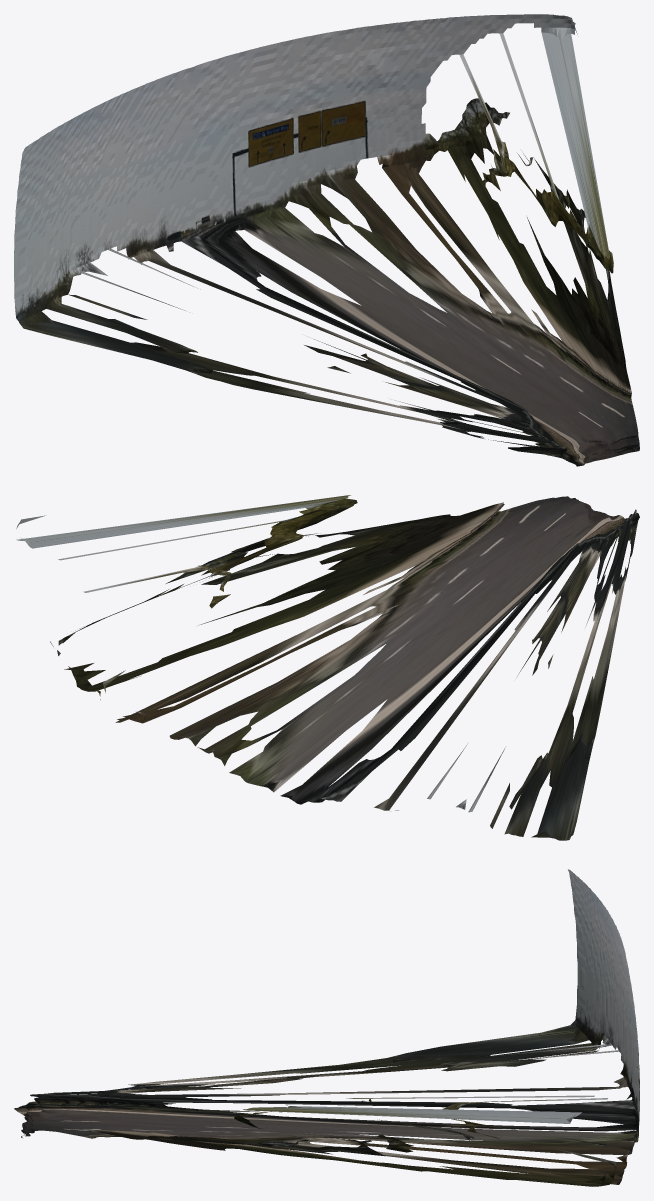
The picture shows the model from 3 angles, top to bottom: view 1: azimuth 30°, elevation 25°; view 2: azimuth 150°, elevation 25°; view 3: azimuth 270°, elevation 25°; orthographic projection. The views are drawn at different scales.
Visible parts, largest first — view 1: defaultobject; view 2: defaultobject; view 3: defaultobject.
Part boxes in pixels (x1,y1,x2,y2): defaultobject: [14, 14, 639, 466]; defaultobject: [16, 495, 639, 840]; defaultobject: [14, 869, 639, 1186].
Bounding box in the file's own units: 40.88 × 13.58 × 44.83.
1 material, 1 textured.
